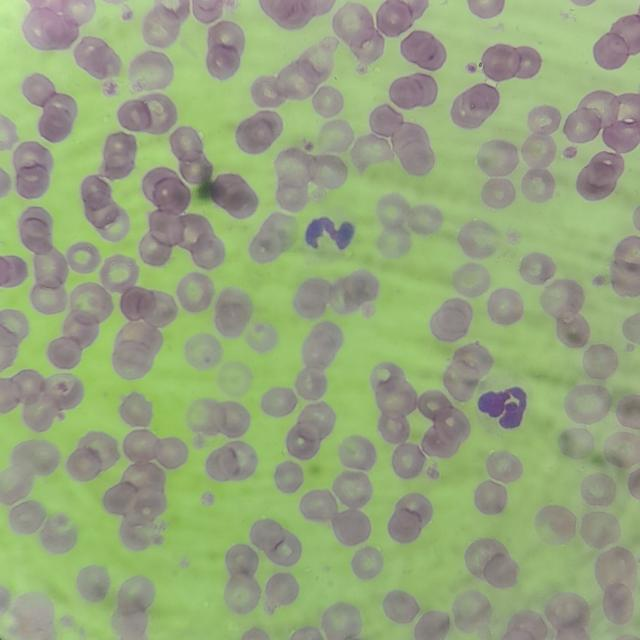Neutrofilo: (474, 375, 534, 434), (301, 212, 361, 263)
